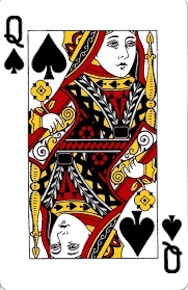QueenOfSpades: (1, 1, 188, 288)
